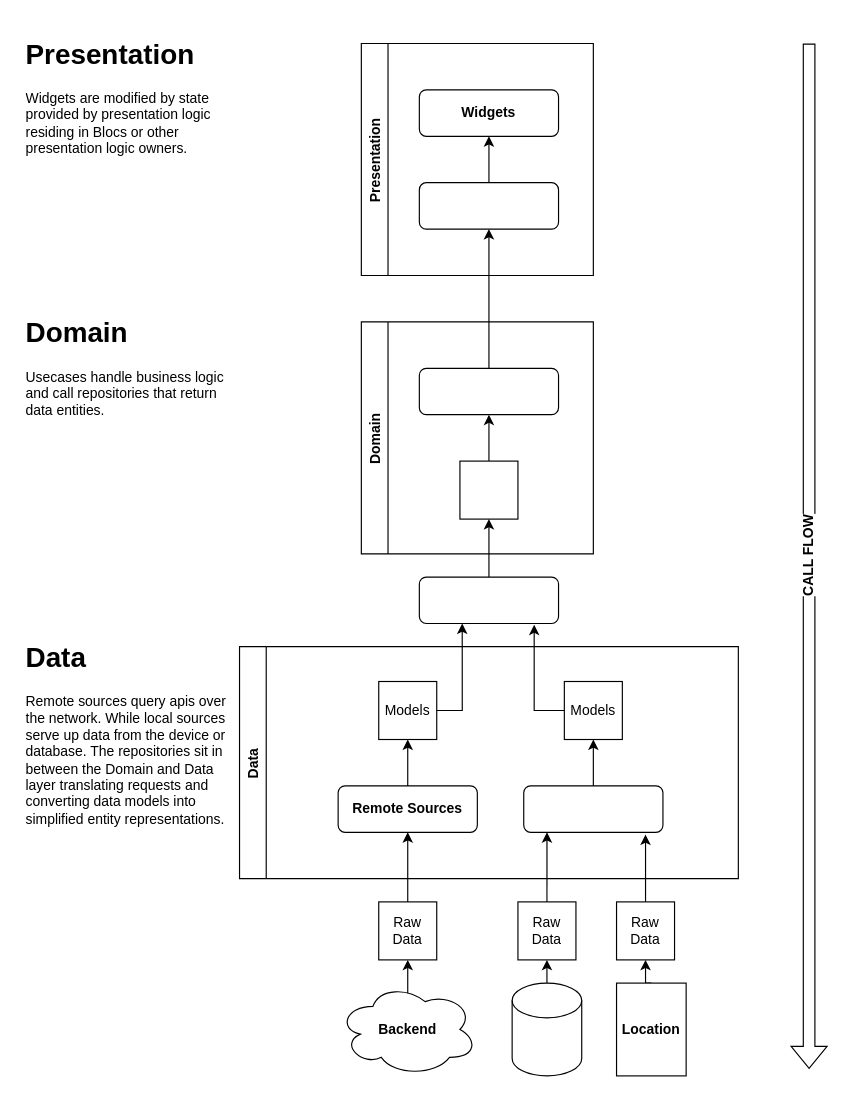
Image size: 847x1096. Some labels were removed from this diagram. Each missing label, with the centre of its shape:
"Database" belongs at point (546, 1029).
"Entities" belongs at point (488, 489).
"Local Sources" belongs at point (593, 808).
"Presentation Logic (Bloc, ChangeNotifier...)" belongs at point (488, 205).
"Repositories" belongs at point (488, 600).
"Use Cases" belongs at point (488, 391).
